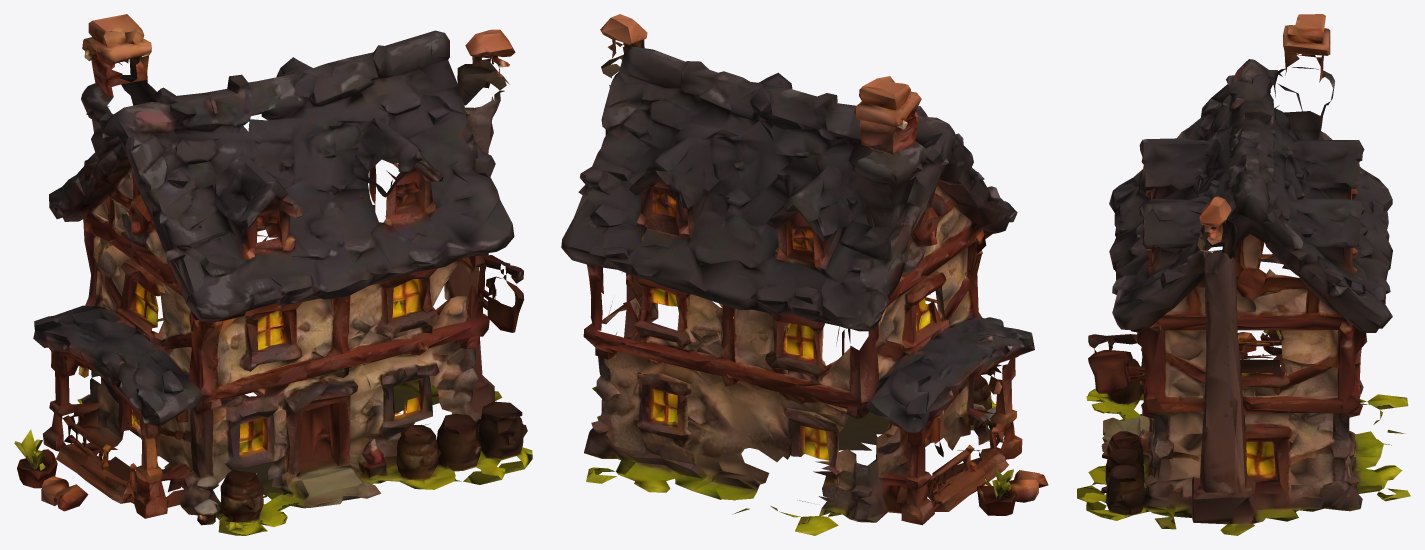
Rendered from tripo-taverna154.glb.
The picture shows the model from 3 angles, left to right: view 1: azimuth 30°, elevation 25°; view 2: azimuth 150°, elevation 25°; view 3: azimuth 270°, elevation 25°; orthographic projection. The views are drawn at different scales.
Visible parts, largest first — view 1: tripo_node_92992c1c-39d1-41a4-a349-7a201e62b414; view 2: tripo_node_92992c1c-39d1-41a4-a349-7a201e62b414; view 3: tripo_node_92992c1c-39d1-41a4-a349-7a201e62b414.
Part boxes in pixels (bbox=[...]): tripo_node_92992c1c-39d1-41a4-a349-7a201e62b414: bbox=[14, 14, 532, 535]; tripo_node_92992c1c-39d1-41a4-a349-7a201e62b414: bbox=[561, 14, 1048, 535]; tripo_node_92992c1c-39d1-41a4-a349-7a201e62b414: bbox=[1077, 14, 1410, 535].
Size of the model in its own units: 0.9724 by 0.8626 by 0.7048.
1 material, 1 textured.
